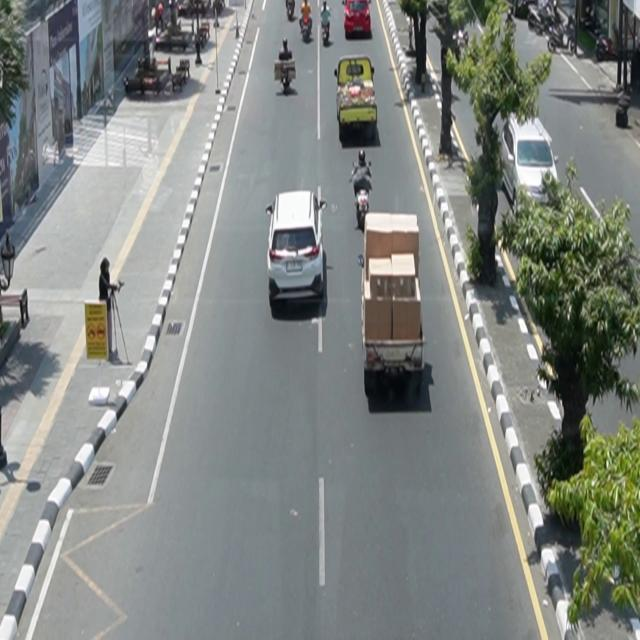car: (266, 190, 328, 305), (498, 110, 560, 220), (335, 56, 379, 142), (344, 1, 372, 39)
truck: (360, 212, 427, 398)
